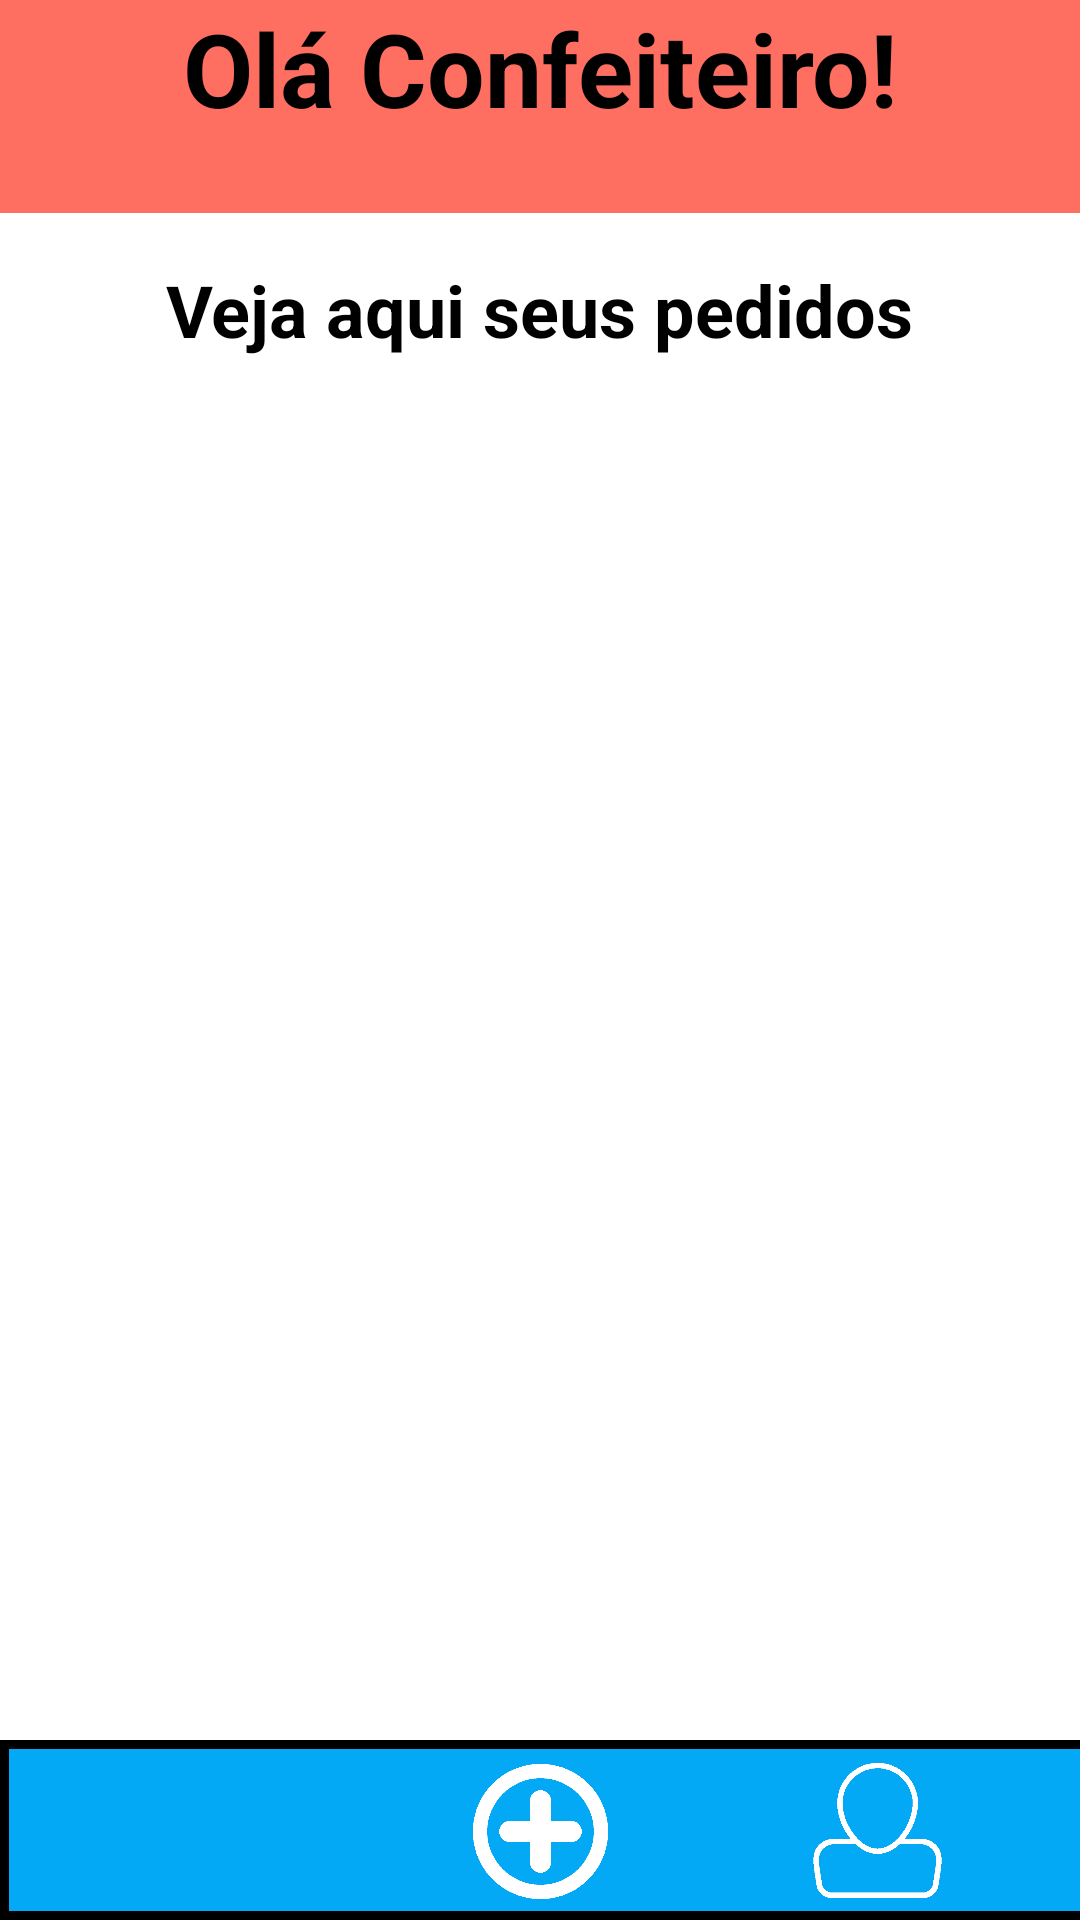

Screen size 1080x1920. Icon name, then its center in pixels as (x,y):
maisbranco: (540,1831)
